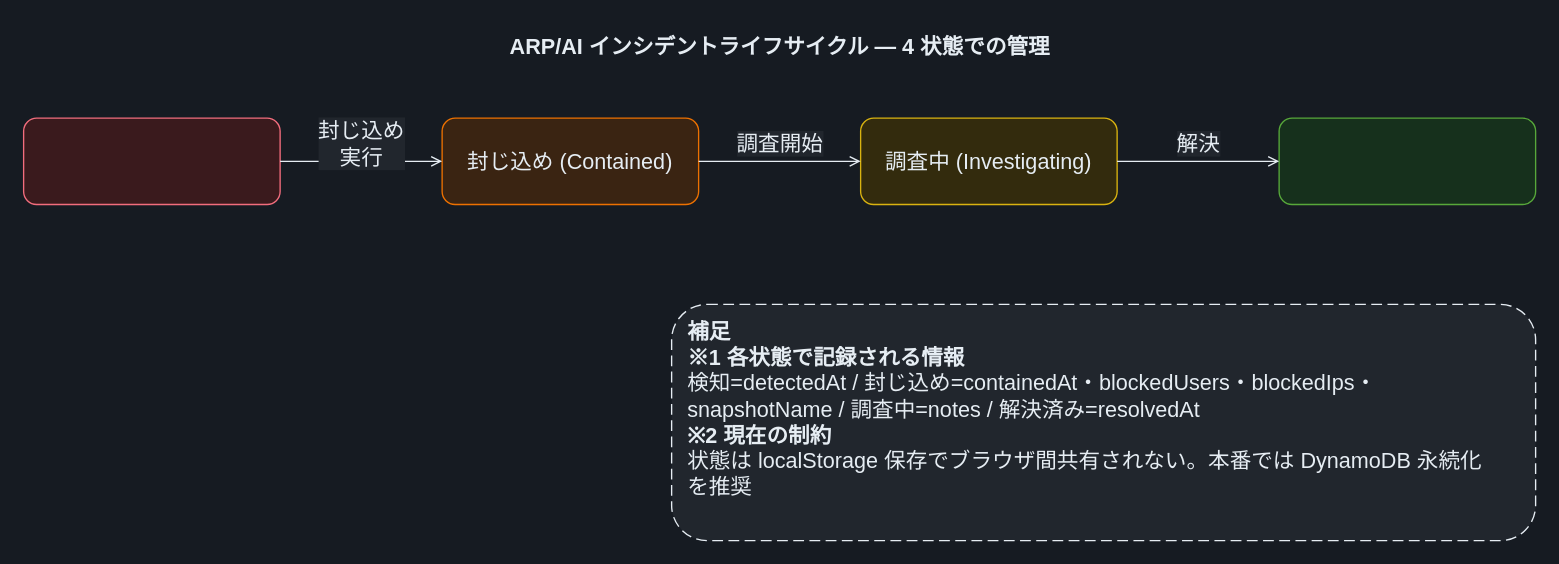
Image size: 1559x564. Some labels were removed from this diagram. The centre of each missing label's shape, as x and y in pixels:
"検知 (Detected)" goes at point 151,161.
"解決済み (Resolved)" goes at point 1407,161.
